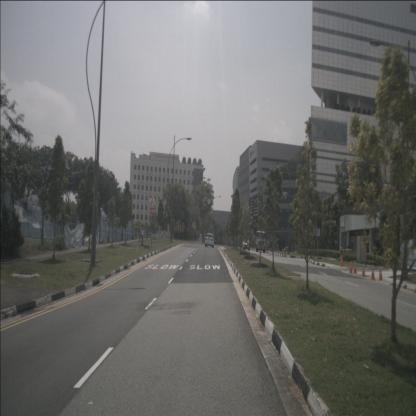movable_object-trafficcone: (370, 263, 376, 280), (378, 264, 383, 281), (361, 262, 366, 278), (348, 259, 352, 274), (354, 260, 358, 275), (340, 253, 344, 267), (386, 257, 389, 270)
vehicle-car: (204, 233, 214, 248), (242, 239, 250, 250)
vehicle-truck: (256, 230, 266, 252)
